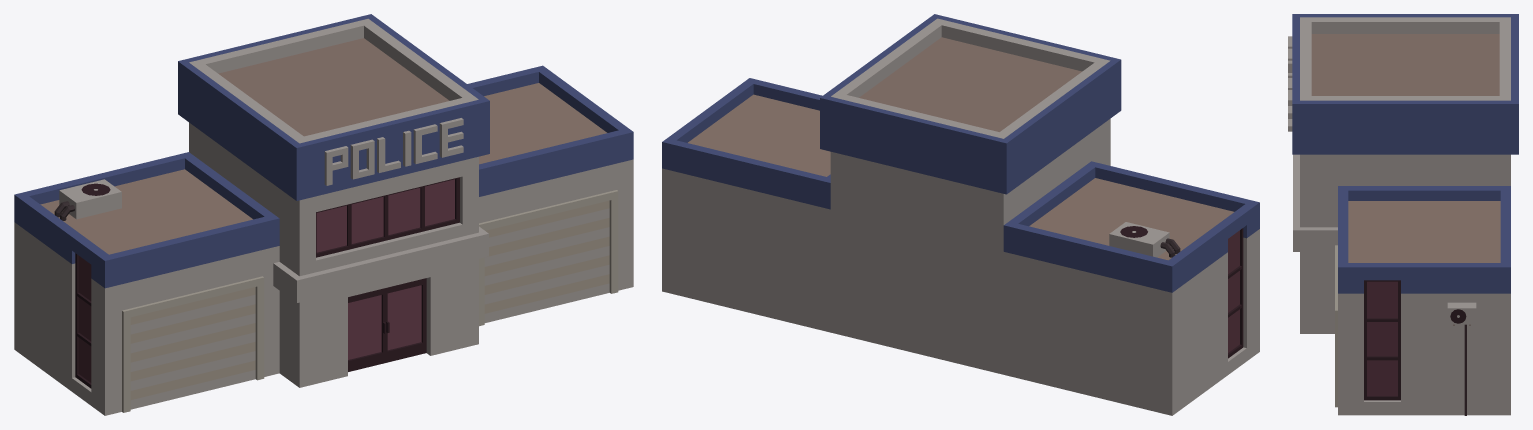
Rendered from Building_43.fbx.
3 renders of one model, left to right at view 1: azimuth 30°, elevation 25°; view 2: azimuth 150°, elevation 25°; view 3: azimuth 270°, elevation 25°, orthographic. The views are drawn at different scales.
Parts seen in each view (by area): view 1: Building_43; view 2: Building_43; view 3: Building_43.
Part boxes in pixels (left/top/right/bottom): Building_43: left=14, top=14, right=633, bottom=415; Building_43: left=662, top=14, right=1259, bottom=415; Building_43: left=1288, top=14, right=1518, bottom=415.
Size of the model in its own units: 21.69 by 9.37 by 8.4.
